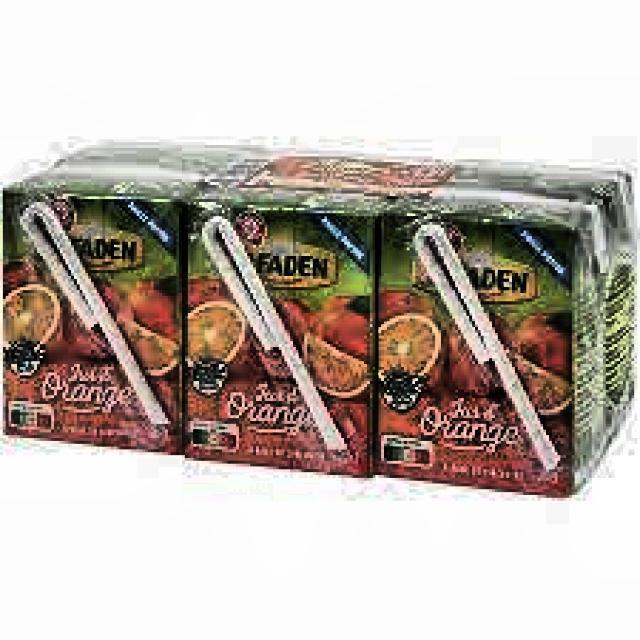cardboard: (0, 139, 637, 498)
